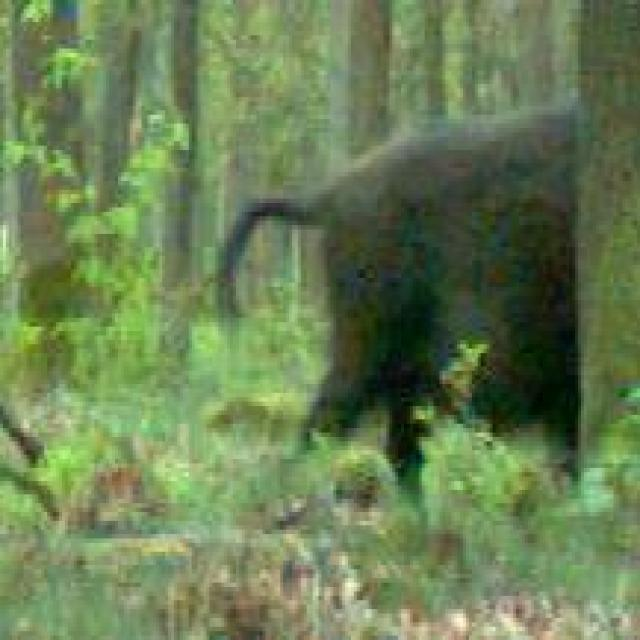pig: (209, 78, 640, 476)
